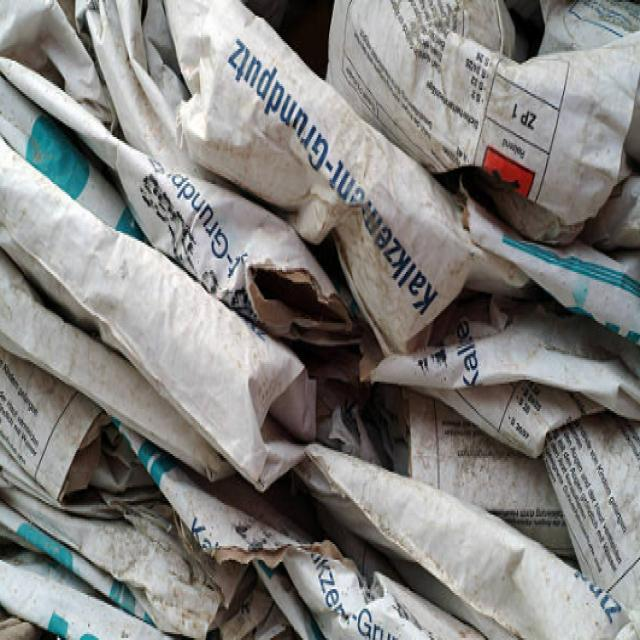KantongSemen: (0, 0, 638, 638)
